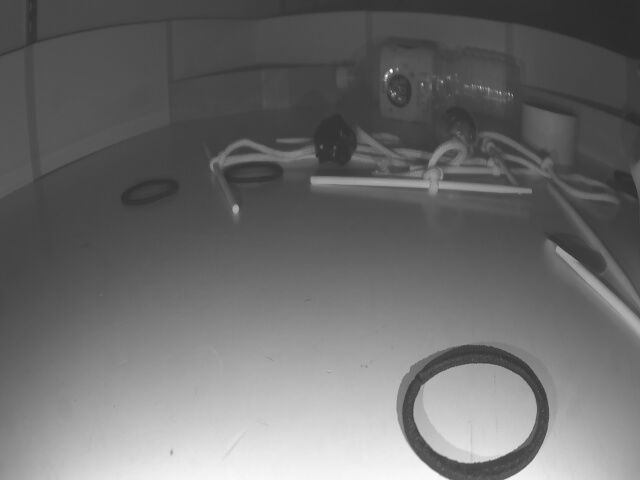Dead: (314, 115, 357, 168)
Live: (436, 105, 480, 159)
Point: (174, 61, 351, 126), (526, 83, 640, 176)
